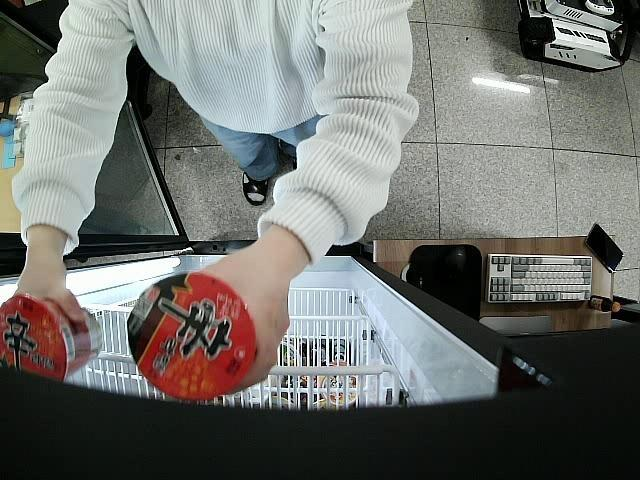02_shinRamen_S: (126, 271, 258, 400), (0, 294, 105, 382)
